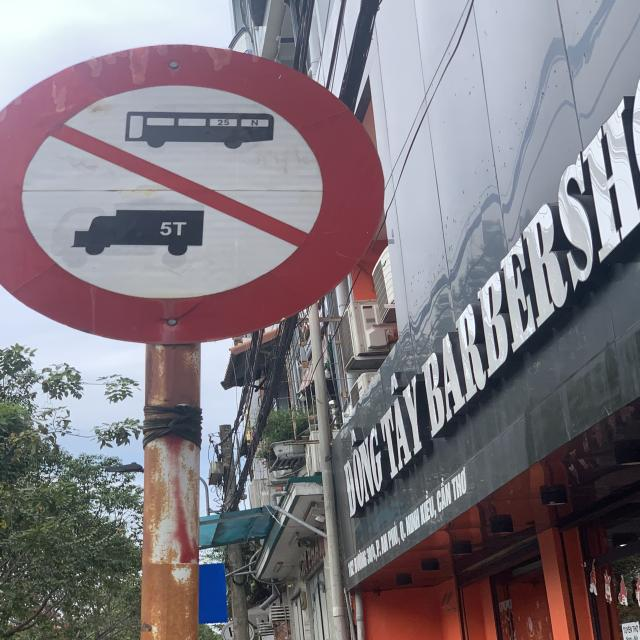Cam_XeTai_XeKhach: (0, 41, 386, 349)
